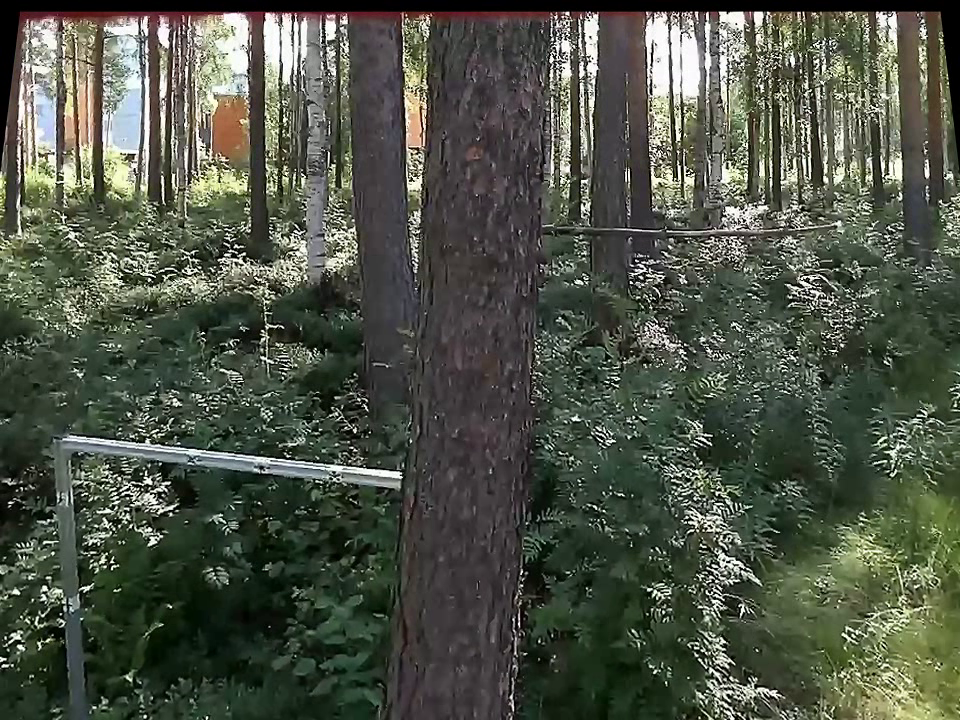aluminum_frame: (62, 429, 402, 491), (43, 428, 98, 713)
branch: (544, 212, 830, 248)
